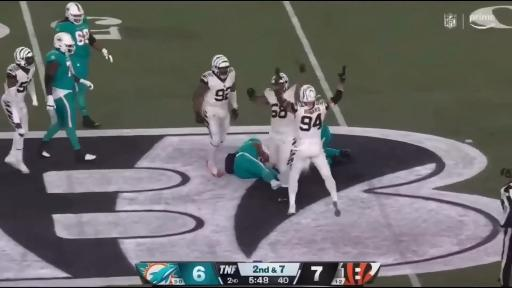Helmet: (54, 32, 75, 54), (65, 2, 84, 25), (14, 47, 34, 68), (212, 55, 230, 78), (300, 85, 317, 102), (278, 73, 288, 90), (263, 146, 269, 153)
Jersey: (200, 68, 235, 111), (294, 100, 328, 143), (55, 18, 90, 58), (264, 89, 294, 135), (46, 50, 75, 91), (7, 64, 35, 103), (236, 139, 264, 162), (236, 141, 258, 159), (321, 122, 332, 138)
Player: (278, 66, 345, 216), (39, 33, 95, 161), (193, 55, 238, 177), (248, 73, 296, 174), (248, 73, 295, 173), (2, 47, 37, 173), (55, 3, 112, 79), (225, 138, 280, 189), (321, 124, 350, 165)
